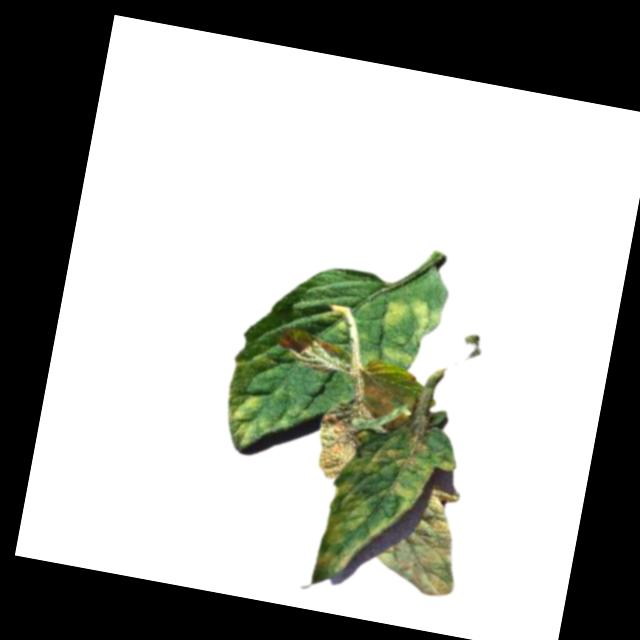Leaf_Mold: (376, 487, 468, 599), (347, 422, 462, 497), (311, 472, 379, 591), (217, 348, 284, 456), (374, 291, 452, 371), (310, 393, 369, 485)
